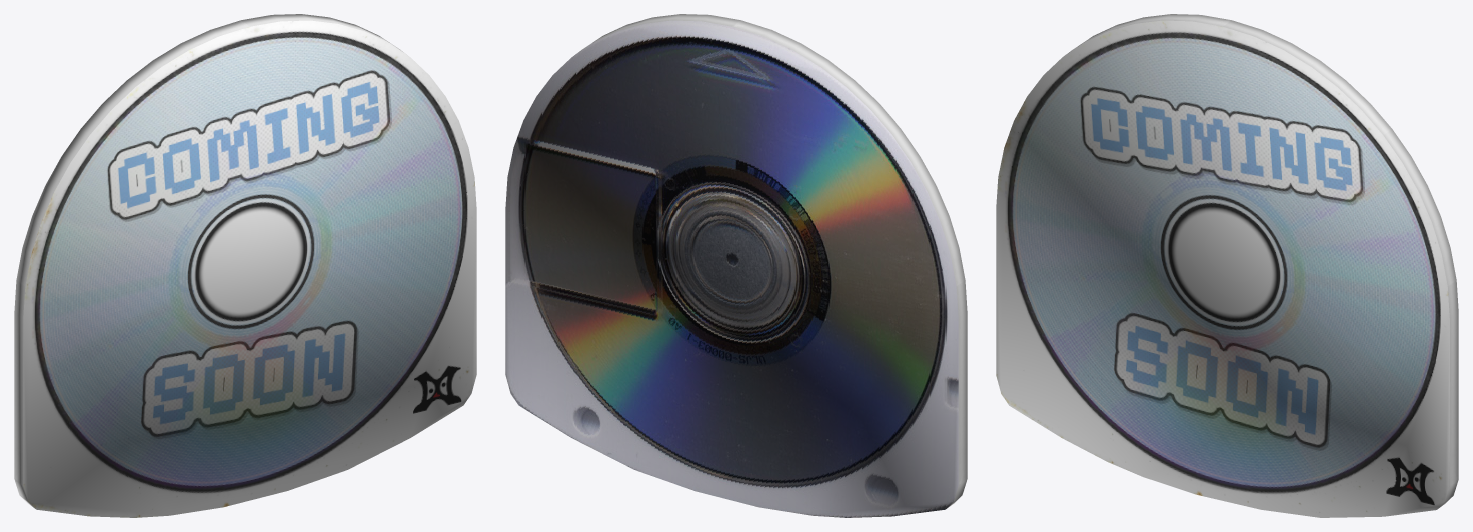
The model's file is Cooming_soon.glb.
3 renders of one model, left to right at view 1: azimuth 30°, elevation 25°; view 2: azimuth 150°, elevation 25°; view 3: azimuth 330°, elevation 25°, orthographic.
Parts seen in each view (by area): view 1: path2160; view 2: path2160; view 3: path2160.
Boxes of the visible parts, x1,y1,x2,y2 form: path2160: (14,14,476,517); path2160: (505,14,967,517); path2160: (996,14,1458,517).
Size of the model in its own units: 0.0628 by 0.0627 by 0.00213.
Materials: 2 (2 with a texture image).
